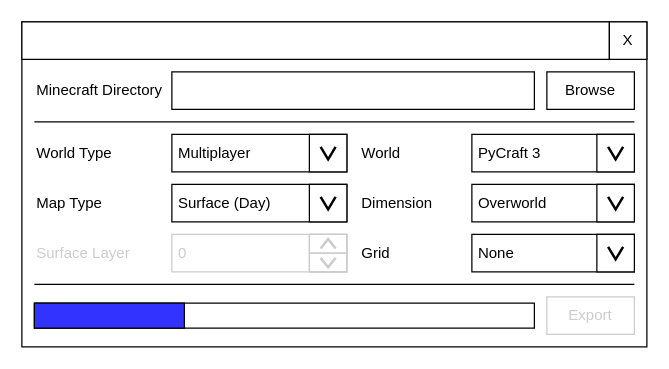
The diagram is 669 pixels wide and 369 high, and some of its shapes have lost their labels. The box of each missing label's shape, as (x1, y1, x2, y2) in pixels:
C:\Users\coles\AppData\Roaming\.minecraft: (171, 71, 534, 109)
JourneyMap Tools: (21, 21, 609, 59)
